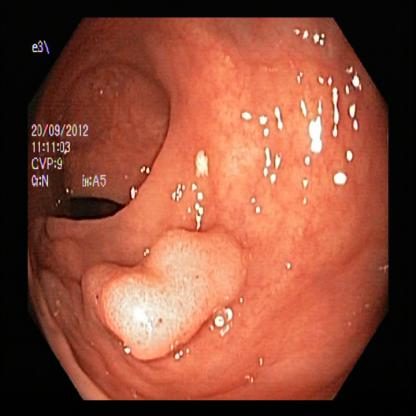Labels: (27, 39, 108, 189)
Polyps: (88, 246, 263, 350)
